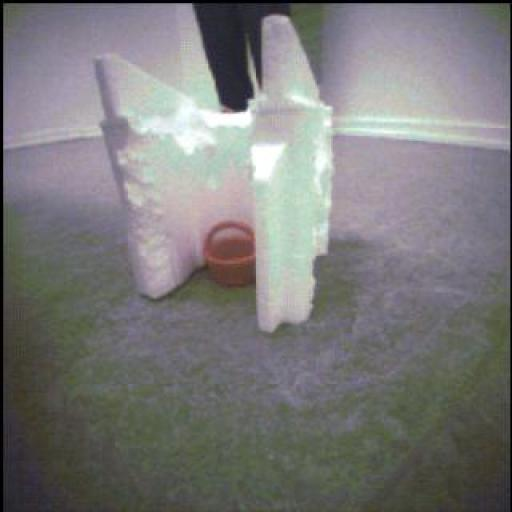Bucket: (204, 221, 259, 288)
